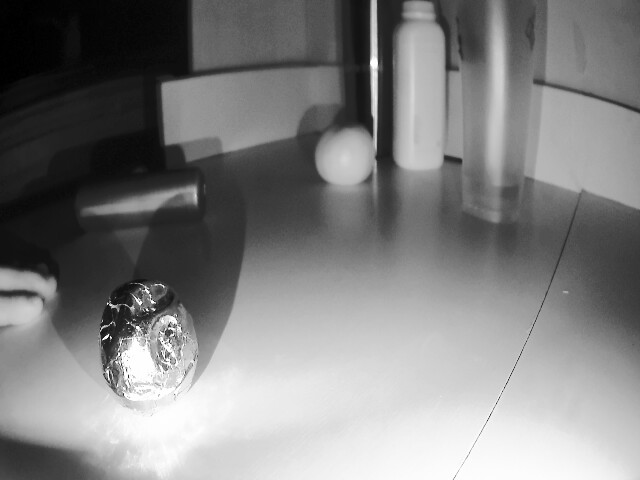black: (100, 282, 219, 424)
